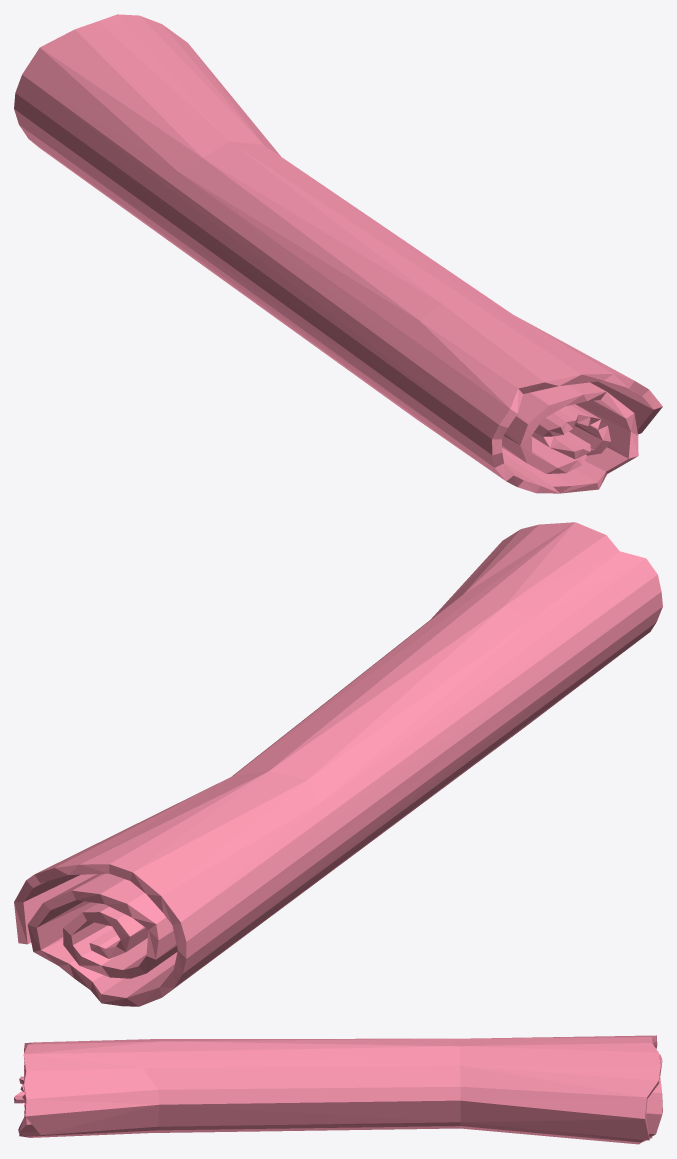
The model's file is Cloth 01.fbx.
3 views of the same model, one above another, from view 1: azimuth 30°, elevation 25°; view 2: azimuth 150°, elevation 25°; view 3: azimuth 270°, elevation 25° (orthographic). The views are drawn at different scales.
Parts seen in each view (by area): view 1: Cloth 01; view 2: Cloth 01; view 3: Cloth 01.
Boxes of the visible parts, x1=… form: Cloth 01: x1=14, y1=14, x2=662, y2=493; Cloth 01: x1=14, y1=522, x2=662, y2=1006; Cloth 01: x1=14, y1=1035, x2=662, y2=1144.
Bounding box in the file's own units: 38.64 × 28.62 × 182.
